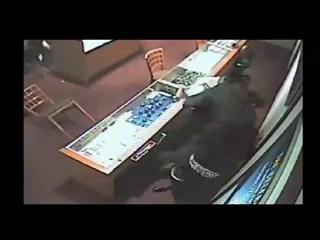shoplifting: (147, 59, 283, 186)
